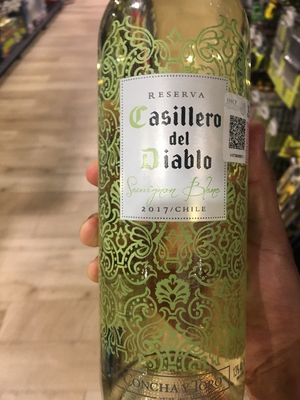casillero del diablo sauvignon blanc: (98, 2, 254, 400)
